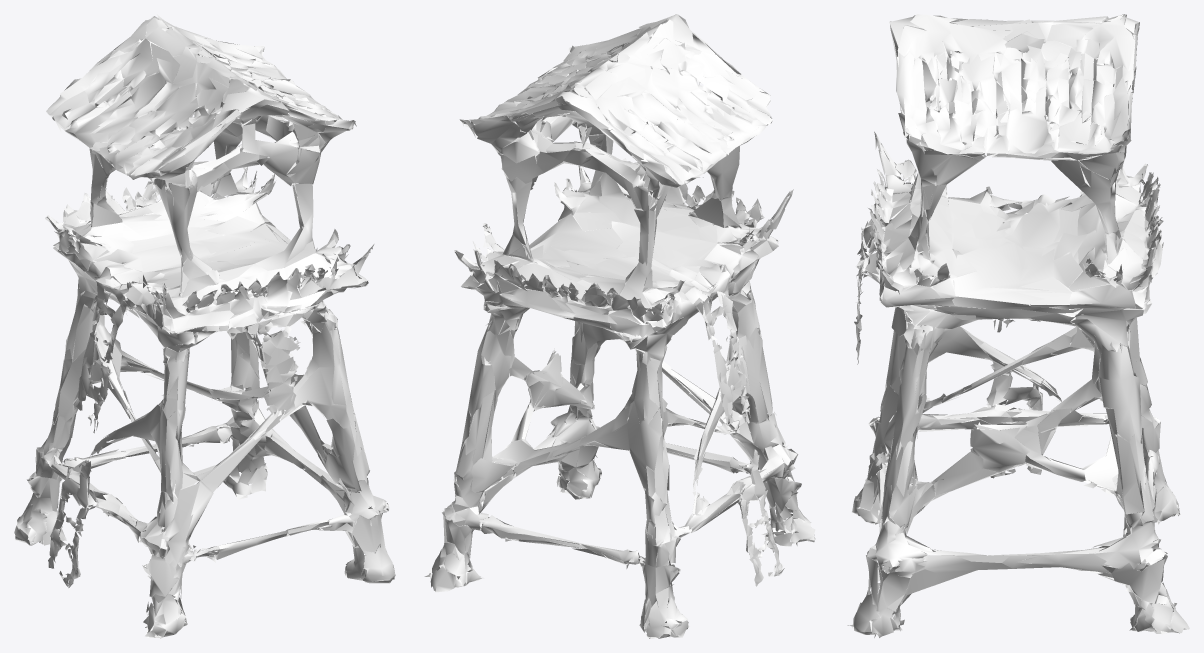
Rendered from watch_tower_lo.glb.
3 views of the same model, side by side, from view 1: azimuth 30°, elevation 25°; view 2: azimuth 150°, elevation 25°; view 3: azimuth 270°, elevation 25° (orthographic). The views are drawn at different scales.
Visible parts, largest first — view 1: output_unwrapped; view 2: output_unwrapped; view 3: output_unwrapped.
Part boxes in pixels (box(x1,y1,x2,y2)): output_unwrapped: box(14, 14, 395, 638); output_unwrapped: box(424, 14, 815, 638); output_unwrapped: box(847, 14, 1189, 637).
Size of the model in its own units: 6.84 by 12.08 by 6.71.
Materials: 1 (1 with a texture image).
